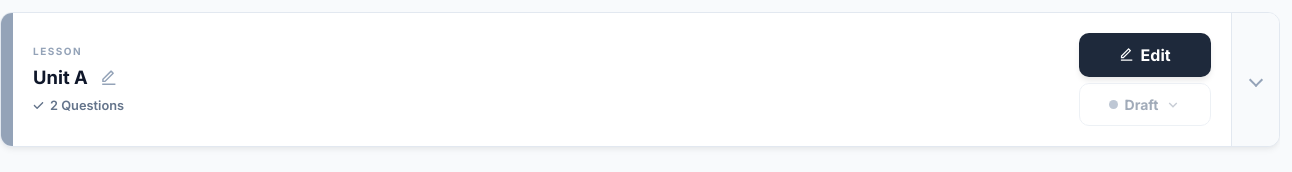
it: ModuleUnitCard › Title editing › cancels editing when clicking cancel icon
Click the button named "Edit title" at [108, 77], box [96, 65, 121, 90]
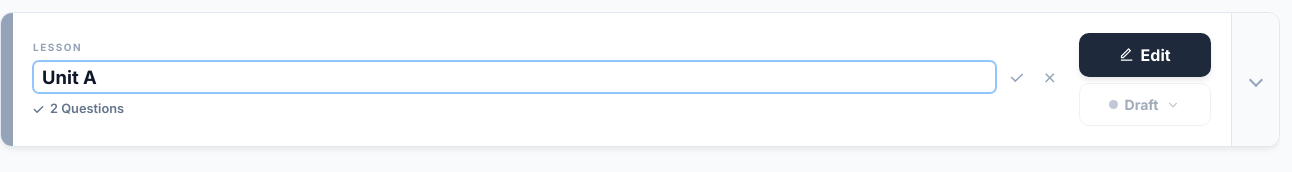
Replace the text in the field showing "Unit A" with "New Title" at [514, 77], box [33, 61, 996, 94]
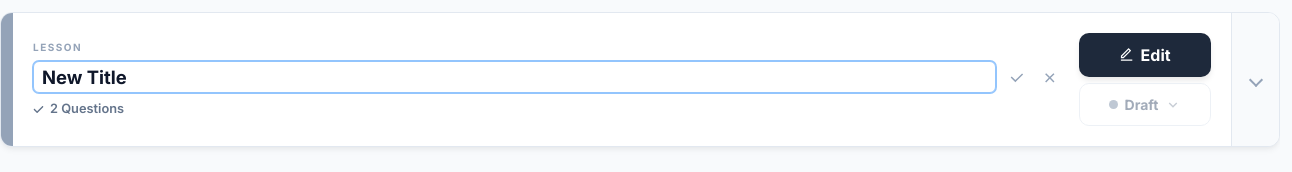
Click the button named "Cancel editing" at [1050, 77], box [1037, 65, 1063, 90]
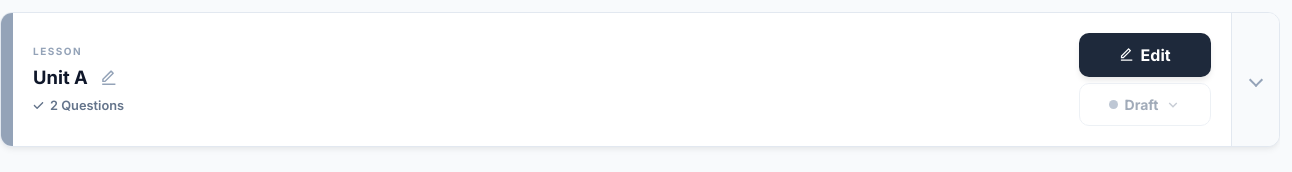
Check: the field showing "New Title" is not shown
Check: the heading "Unit A" is shown, box [33, 66, 88, 88]
